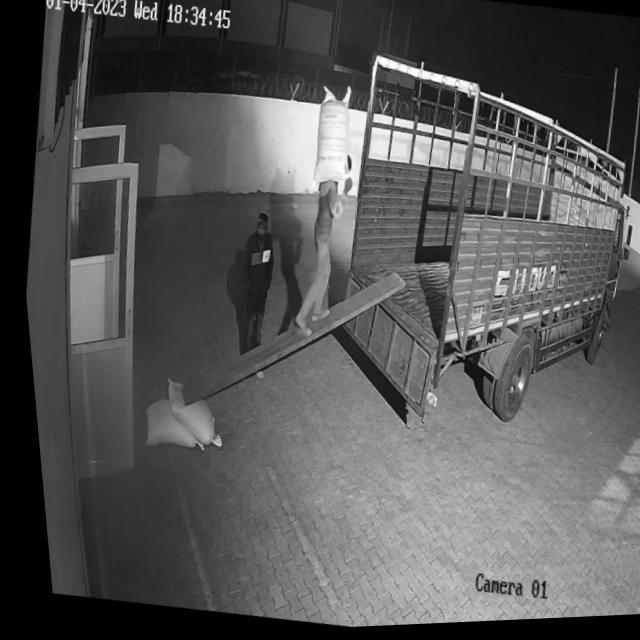sack: (299, 83, 358, 195), (149, 375, 223, 450), (132, 395, 202, 454)
